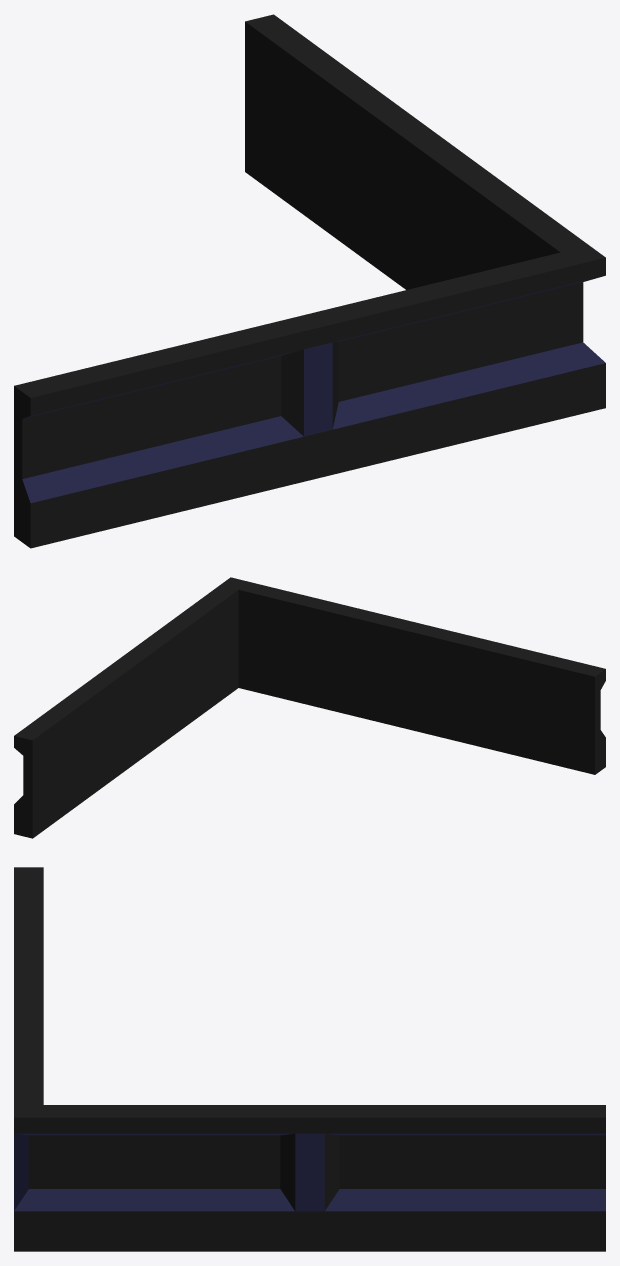
The model's file is plane_wall_corner.obj.
3 views of the same model, one above another, from view 1: azimuth 30°, elevation 25°; view 2: azimuth 150°, elevation 25°; view 3: azimuth 270°, elevation 25° (orthographic). The views are drawn at different scales.
Parts seen in each view (by area): view 1: PlaneWallCorner_Plane.002; view 2: PlaneWallCorner_Plane.002; view 3: PlaneWallCorner_Plane.002.
Part boxes in pixels (x1=…): PlaneWallCorner_Plane.002: x1=14, y1=14, x2=605, y2=548; PlaneWallCorner_Plane.002: x1=14, y1=577, x2=605, y2=838; PlaneWallCorner_Plane.002: x1=14, y1=867, x2=605, y2=1251.
Bounding box in the file's own units: 20 × 5 × 20.
